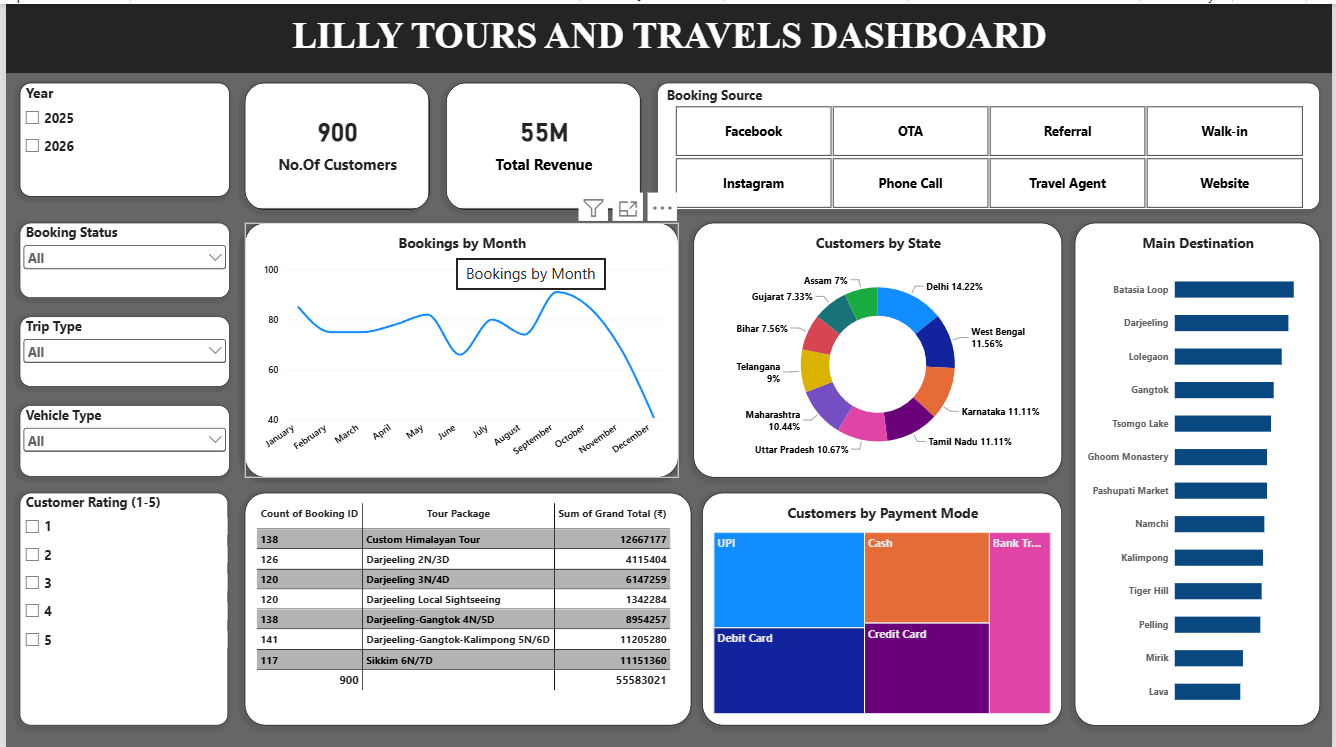

The dashboard page shown, as its layout file describes it:
{"tool":"powerbi","page":{"name":"Page 1","canvas":[1920,1080],"ordinal":0},"visuals":[{"type":"textbox","box":[0,0,1920.4,100],"z":0},{"type":"cardVisual","fields":{"Data":["CountNonNull(Sheet1.Customer ID)"]},"box":[345.6,114,267.9,183.9],"z":1},{"type":"cardVisual","fields":{"Data":["Sum(Sheet1.Package Amount (₹))"]},"box":[637,114,282.1,183.9],"z":2},{"type":"slicer","fields":{"Values":["Sheet1.Booking Source"]},"box":[942.8,114,958.9,183.9],"z":3},{"type":"slicer","fields":{"Values":["Sheet1.Customer Rating (1-5)"]},"box":[19.9,707.6,301.9,336.5],"z":5},{"type":"slicer","fields":{"Values":["Sheet1.Booking Status"]},"box":[19.9,316.7,304,108.6],"z":6},{"type":"slicer","fields":{"Values":["Sheet1.Trip Type"]},"box":[19.9,452.4,304,101.3],"z":7},{"type":"slicer","fields":{"Values":["Sheet1.Vehicle Type"]},"box":[19.9,580.9,304,103.2],"z":8},{"type":"lineChart","title":"Bookings by Month","fields":{"Category":["Sheet1.Booking Date.Variation.Date Hierarchy.Month"],"Y":["CountNonNull(Sheet1.Booking ID)"]},"box":[345.6,316.7,628,369.2],"z":10},{"type":"slicer","fields":{"Values":["Sheet1.Booking Date.Variation.Date Hierarchy.Year"]},"box":[19.9,114,304,164.7],"z":11},{"type":"donutChart","title":"Customers by State","fields":{"Category":["Sheet1.Home State"],"Y":["CountNonNull(Sheet1.Customer ID)"]},"box":[995.3,316.7,533.8,369.2],"z":12},{"type":"barChart","title":"Main Destination","fields":{"Category":["Sheet1.Main Destination"],"Y":["CountNonNull(Sheet1.Customer ID)"]},"box":[1547.3,316.7,355.6,727.8],"z":13},{"type":"tableEx","fields":{"Values":["Sheet1.Booking ID","Sheet1.Tour Package","Sum(Sheet1.Grand Total (₹))"]},"box":[346.3,707.4,646.3,337],"z":14},{"type":"treemap","title":"Customers by Payment Mode","fields":{"Group":["Sheet1.Payment Mode"],"Values":["CountNonNull(Sheet1.Customer ID)"]},"box":[1008,707.6,521.2,336.6],"z":15}]}

Visuals, with their boxes in screenshot pixels (x1, y1, x2, y2), scaled from the page's 1920x1080 canvas onto the 1336x747 screenshot:
textbox: bbox=[0, 0, 1335, 69]
cardVisual - CountNonNull(Sheet1.Customer ID): bbox=[240, 79, 427, 206]
cardVisual - Sum(Sheet1.Package Amount (₹)): bbox=[443, 79, 640, 206]
slicer - Sheet1.Booking Source: bbox=[656, 79, 1323, 206]
slicer - Sheet1.Customer Rating (1-5): bbox=[14, 489, 224, 722]
slicer - Sheet1.Booking Status: bbox=[14, 219, 225, 294]
slicer - Sheet1.Trip Type: bbox=[14, 313, 225, 383]
slicer - Sheet1.Vehicle Type: bbox=[14, 402, 225, 473]
"Bookings by Month" lineChart: bbox=[240, 219, 677, 474]
slicer - Sheet1.Booking Date.Variation.Date Hierarchy.Year: bbox=[14, 79, 225, 193]
"Customers by State" donutChart: bbox=[693, 219, 1064, 474]
"Main Destination" barChart: bbox=[1077, 219, 1324, 722]
tableEx - Sheet1.Booking ID x Sheet1.Tour Package: bbox=[241, 489, 691, 722]
"Customers by Payment Mode" treemap: bbox=[701, 489, 1064, 722]
